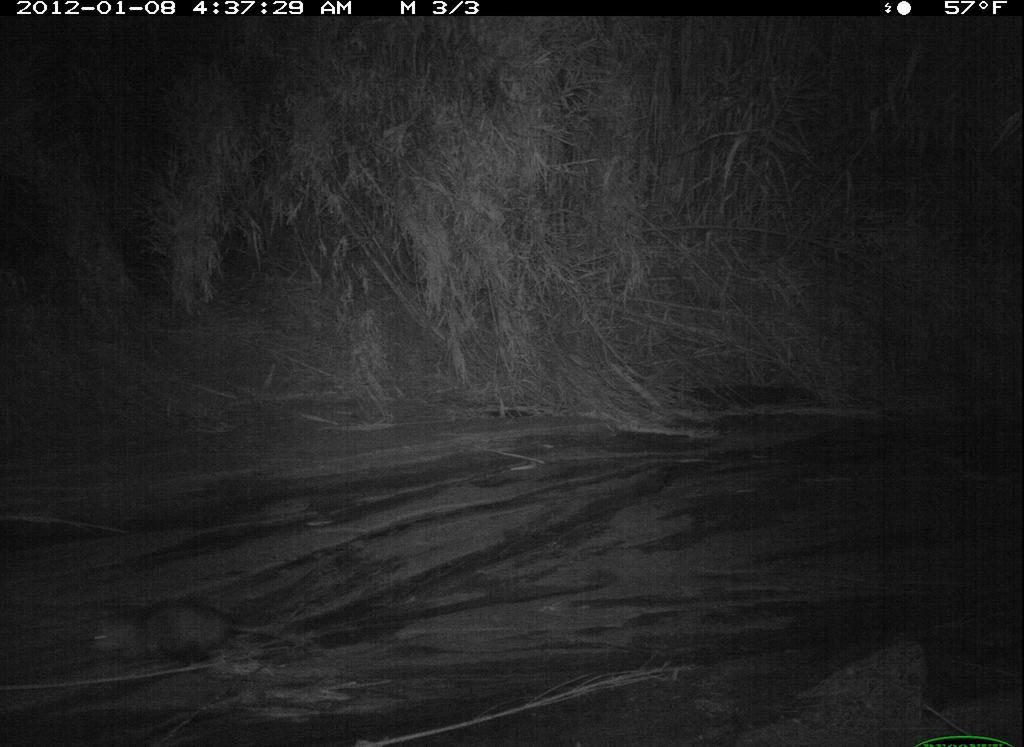opossum: (81, 597, 292, 679)
